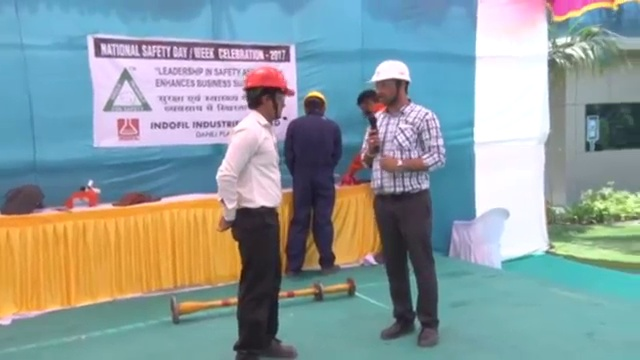helmet: (241, 64, 298, 98), (364, 58, 417, 85), (303, 90, 327, 105)
helmet_off: (353, 90, 388, 123)
helmet_on: (240, 63, 298, 127), (363, 58, 417, 118), (302, 89, 329, 119)
person: (356, 57, 446, 346), (216, 65, 300, 360), (285, 90, 342, 273)
